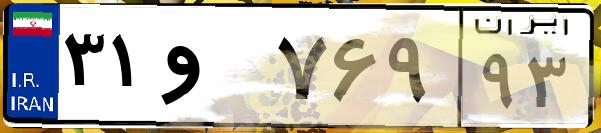1: (110, 28, 158, 98)
3: (57, 26, 110, 100), (525, 38, 570, 115)
6: (330, 28, 385, 110)
7: (270, 28, 330, 110)
9: (385, 28, 445, 110), (475, 38, 525, 113)
و: (158, 20, 270, 120)
